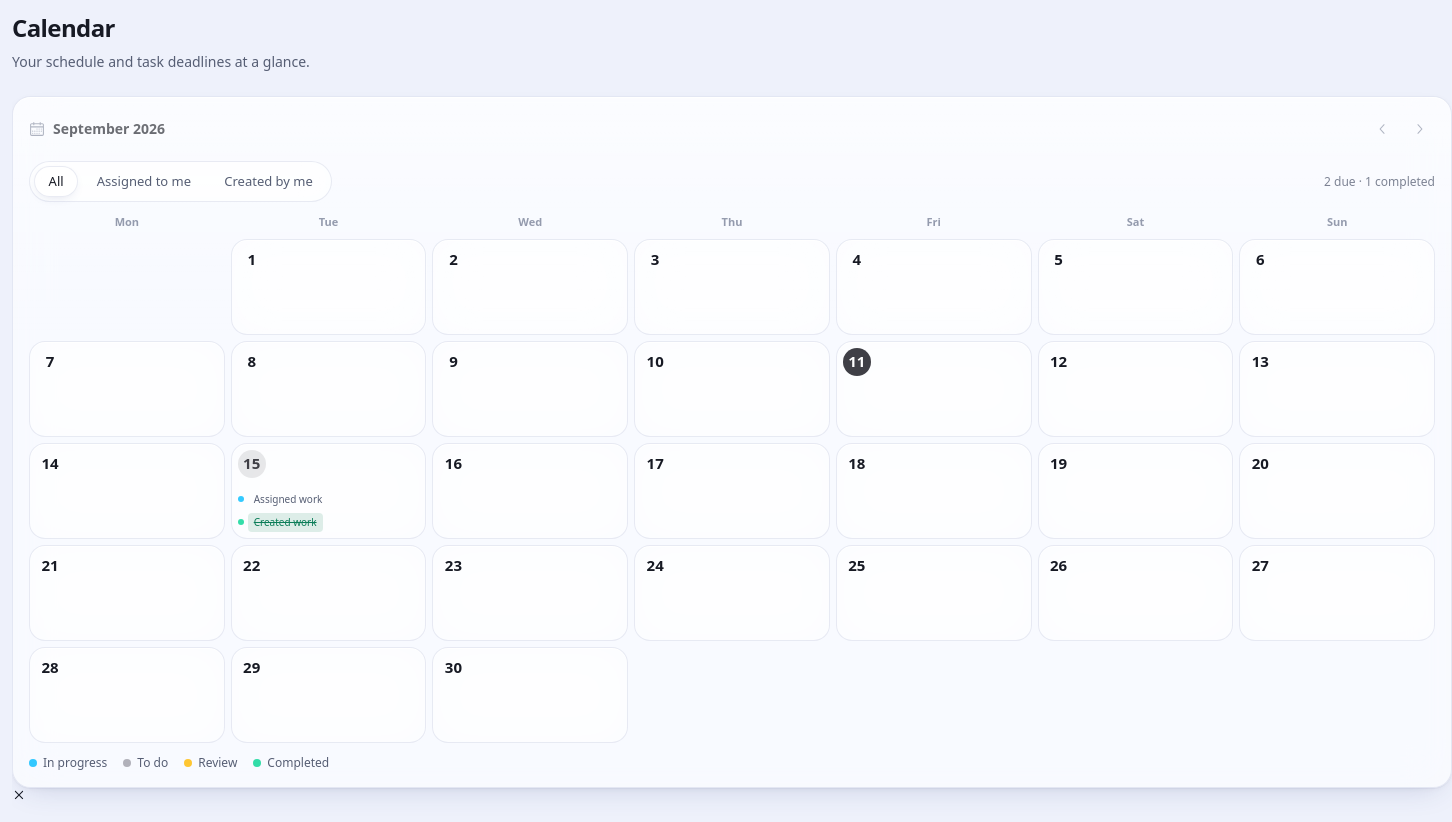
Test case: CalendarView › filters to tasks assigned to me
Click the button "Assigned to me". click: click(144, 182)
box: [82, 166, 206, 197]
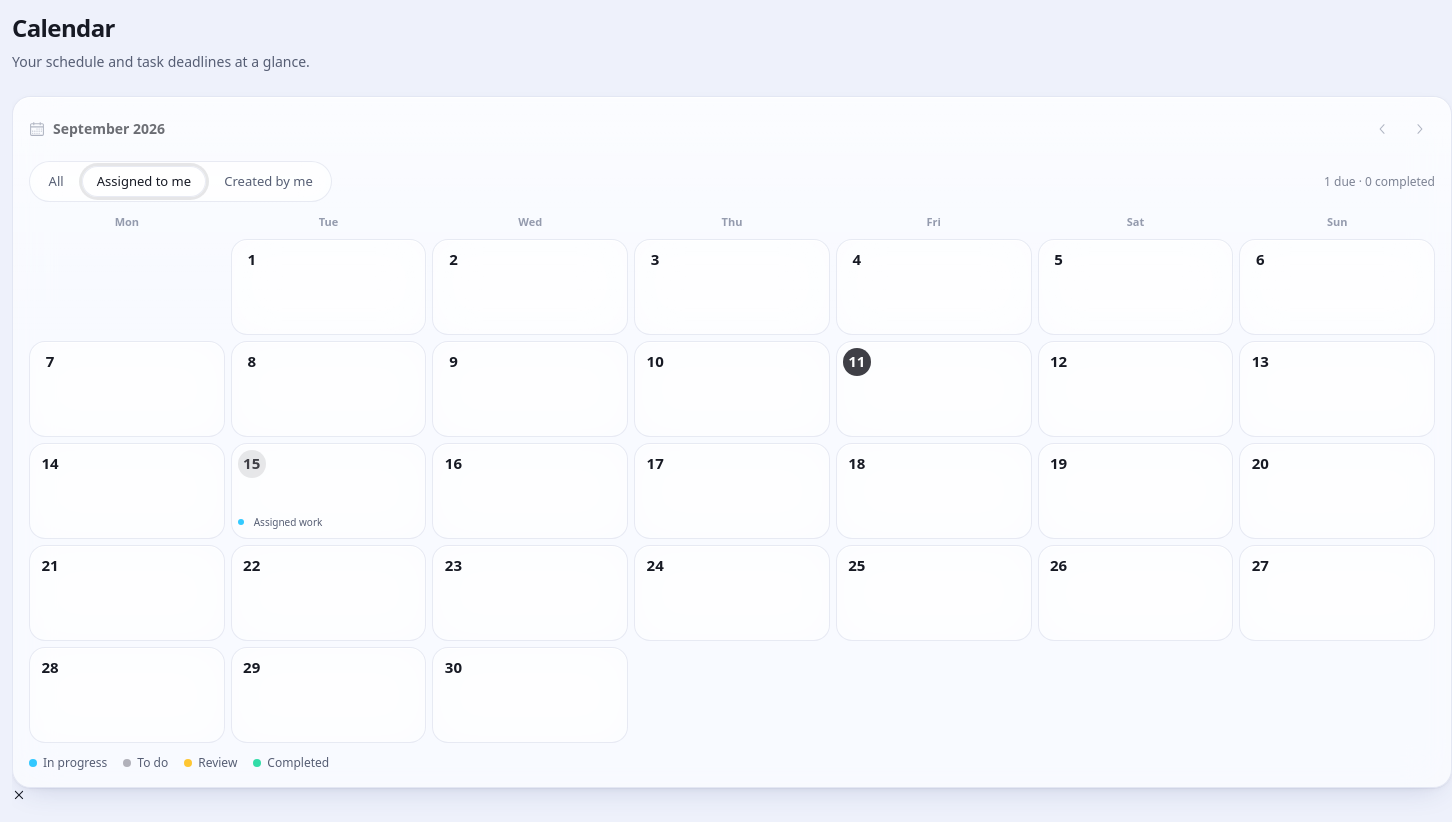
Expected: the text "Assigned work" is shown, [248, 513, 328, 532]
Result: the text "Created work" is gone
